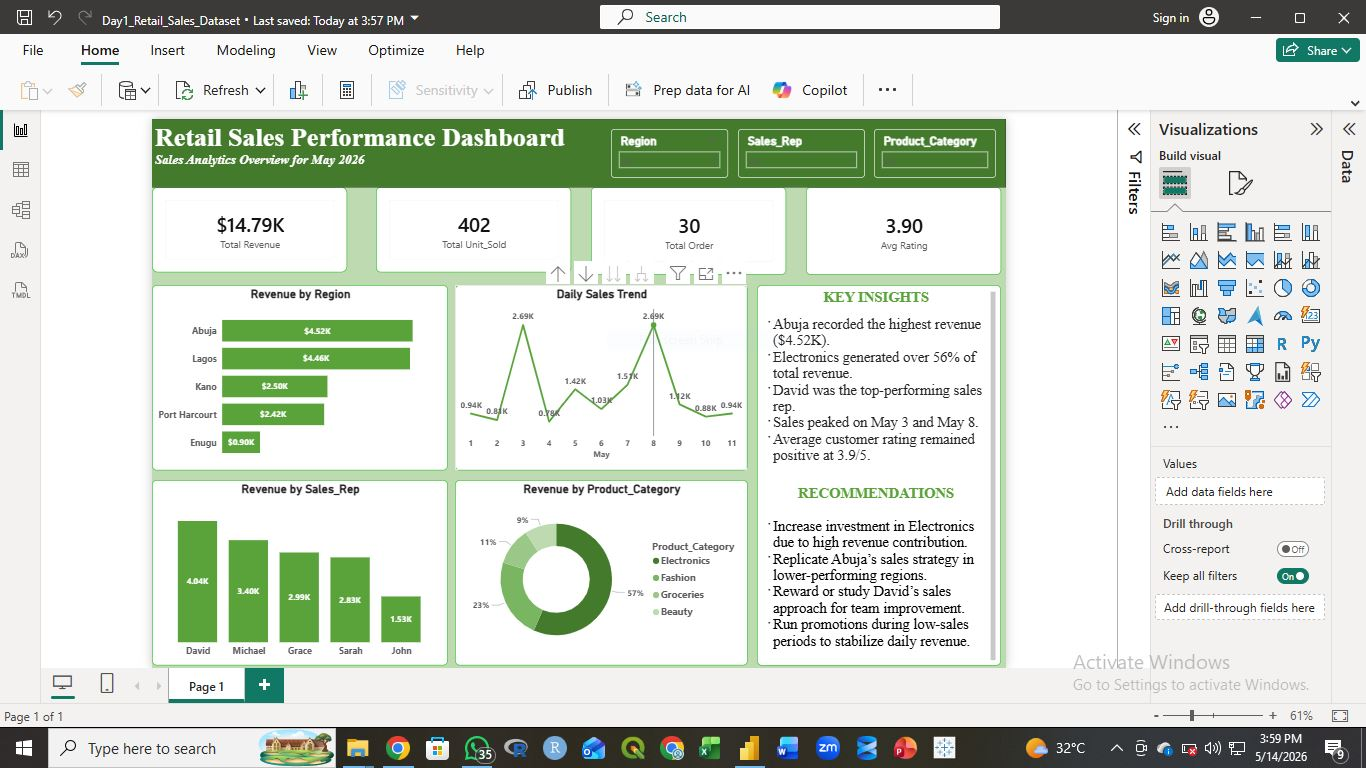

Layout of this report page (visuals, bound fields, positions):
{"tool":"powerbi","page":{"name":"Page 1","canvas":[1400,900],"ordinal":0},"visuals":[{"type":"cardVisual","fields":{"Data":["Retail Sales Performance.Total Order"]},"box":[720,112,320,144],"z":0},{"type":"cardVisual","fields":{"Data":["Retail Sales Performance.Total Revenue"]},"box":[0,112,320,140],"z":1000},{"type":"cardVisual","fields":{"Data":["Retail Sales Performance.Total Unit_Sold"]},"box":[368,112,320,140],"z":2000},{"type":"barChart","title":"Revenue by Region","fields":{"Category":["Retail Sales Performance.Region"],"Y":["Retail Sales Performance.Total Revenue"]},"box":[0,272,485,304],"z":3000},{"type":"donutChart","title":"Revenue by Product_Category","fields":{"Category":["Retail Sales Performance.Product_Category"],"Y":["Sum(Retail Sales Performance.Revenue)"]},"box":[496,592,480,304],"z":4000},{"type":"lineChart","title":"Daily Sales Trend ","fields":{"Category":["Retail Sales Performance.Date.Variation.Date Hierarchy.Month","Retail Sales Performance.Date.Variation.Date Hierarchy.Day"],"Y":["Sum(Retail Sales Performance.Revenue)"]},"box":[496,272,480,304],"z":5000},{"type":"columnChart","title":"Revenue by Sales_Rep","fields":{"Y":["Sum(Retail Sales Performance.Revenue)"],"Category":["Retail Sales Performance.Sales_Rep"]},"box":[0,592,485,304],"z":6000},{"type":"cardVisual","fields":{"Data":["Retail Sales Performance.Avg Rating"]},"box":[1072,112,320,144],"z":7000},{"type":"shape","box":[-8,0,1408,112],"z":8000},{"type":"textbox","box":[992,272,400,624],"z":9000},{"type":"slicer","fields":{"Values":["Retail Sales Performance.Product_Category"]},"box":[1184,16,200,80],"z":10000},{"type":"slicer","fields":{"Values":["Retail Sales Performance.Sales_Rep"]},"box":[960,16,208,80],"z":11000},{"type":"slicer","fields":{"Values":["Retail Sales Performance.Region"]},"box":[752,16,192,80],"z":12000},{"type":"textbox","box":[0,0,752,112],"z":13000}]}

Visuals, with their boxes on the page's 1400x900 design canvas (x1, y1, x2, y2). These are canvas units, not pixel positions in the 1366x768 screenshot, which may show the page scaled, cropped or inside an application window:
cardVisual - Retail Sales Performance.Total Order: 720:112:1040:256
cardVisual - Retail Sales Performance.Total Revenue: 0:112:320:252
cardVisual - Retail Sales Performance.Total Unit_Sold: 368:112:688:252
"Revenue by Region" barChart: 0:272:485:576
"Revenue by Product_Category" donutChart: 496:592:976:896
"Daily Sales Trend " lineChart: 496:272:976:576
"Revenue by Sales_Rep" columnChart: 0:592:485:896
cardVisual - Retail Sales Performance.Avg Rating: 1072:112:1392:256
shape: -8:0:1400:112
textbox: 992:272:1392:896
slicer - Retail Sales Performance.Product_Category: 1184:16:1384:96
slicer - Retail Sales Performance.Sales_Rep: 960:16:1168:96
slicer - Retail Sales Performance.Region: 752:16:944:96
textbox: 0:0:752:112
